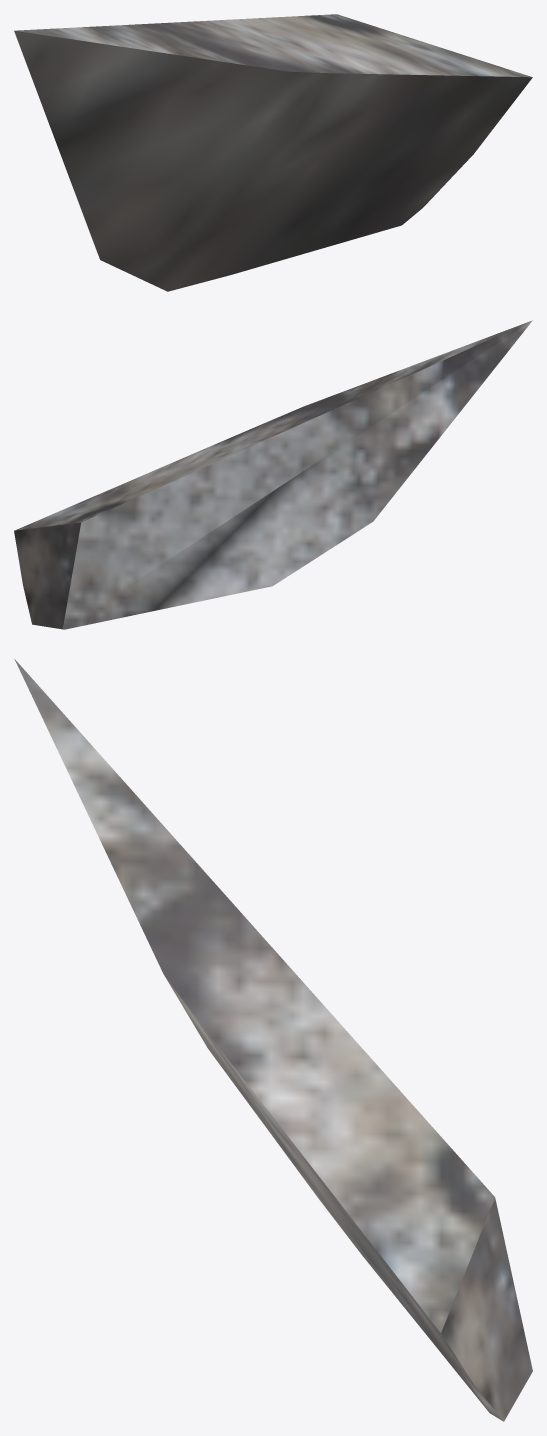
The model's file is Asteroid_Large_001_02_004_03_006.fbx.
3 renders of one model, top to bottom at view 1: azimuth 30°, elevation 25°; view 2: azimuth 150°, elevation 25°; view 3: azimuth 270°, elevation 25°, orthographic. The views are drawn at different scales.
Parts seen in each view (by area): view 1: Asteroid_Large_001_02_004_03_006; view 2: Asteroid_Large_001_02_004_03_006; view 3: Asteroid_Large_001_02_004_03_006.
Boxes of the visible parts, <box> form: Asteroid_Large_001_02_004_03_006: <box>14,14,532,291</box>; Asteroid_Large_001_02_004_03_006: <box>14,320,532,629</box>; Asteroid_Large_001_02_004_03_006: <box>14,659,532,1421</box>.
Size of the model in its own units: 3.46 by 2.42 by 2.38.
